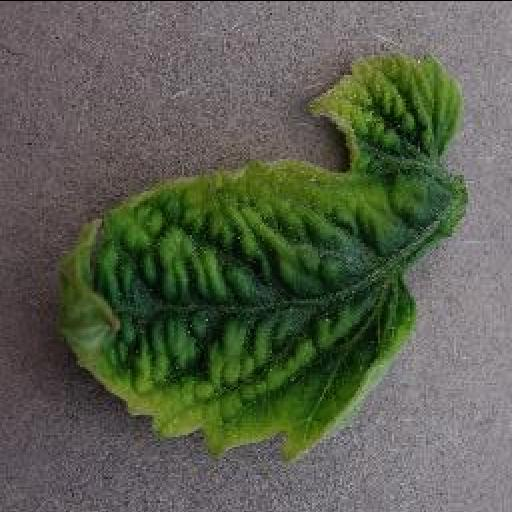disease_tomato: (54, 45, 466, 458)
